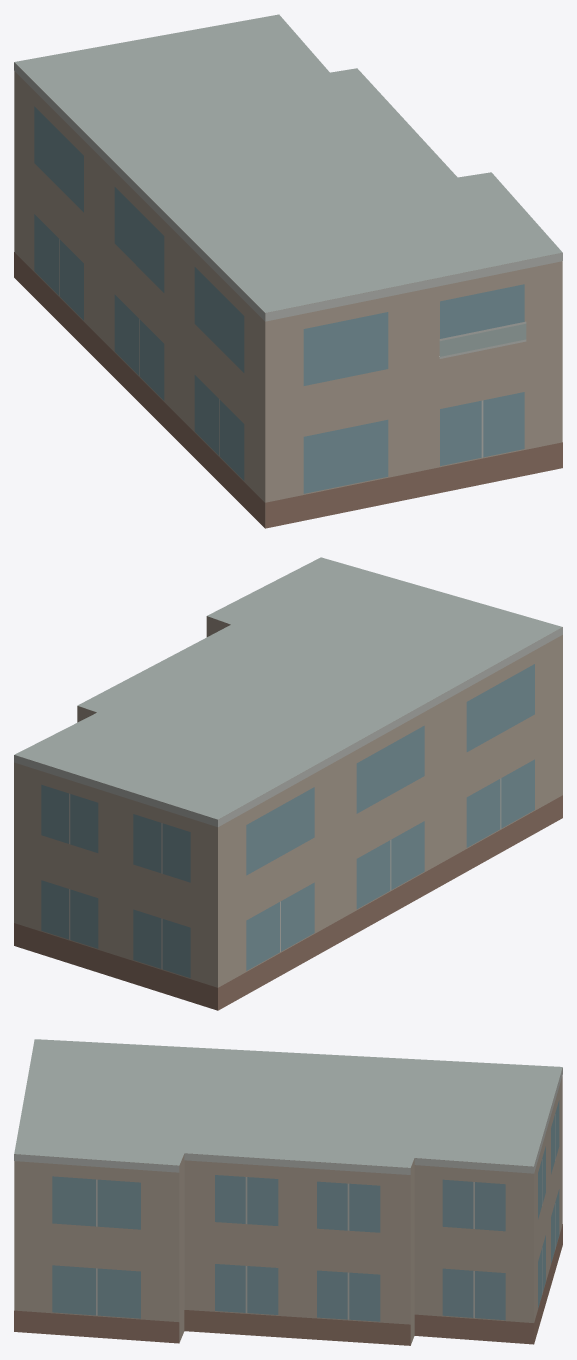
File: survey-upis-32820262.glb
The picture shows the model from 3 angles, top to bottom: view 1: azimuth 30°, elevation 25°; view 2: azimuth 150°, elevation 25°; view 3: azimuth 270°, elevation 25°; orthographic projection. The views are drawn at different scales.
Visible parts, largest first — view 1: survey-upis-32820262.tmp; view 2: survey-upis-32820262.tmp; view 3: survey-upis-32820262.tmp.
Part boxes in pixels (x1=…): survey-upis-32820262.tmp: x1=14, y1=14, x2=562, y2=528; survey-upis-32820262.tmp: x1=14, y1=557, x2=562, y2=1010; survey-upis-32820262.tmp: x1=14, y1=1039, x2=562, y2=1345.
Bounding box in the file's own units: 9.49 × 6.1 × 17.07.
